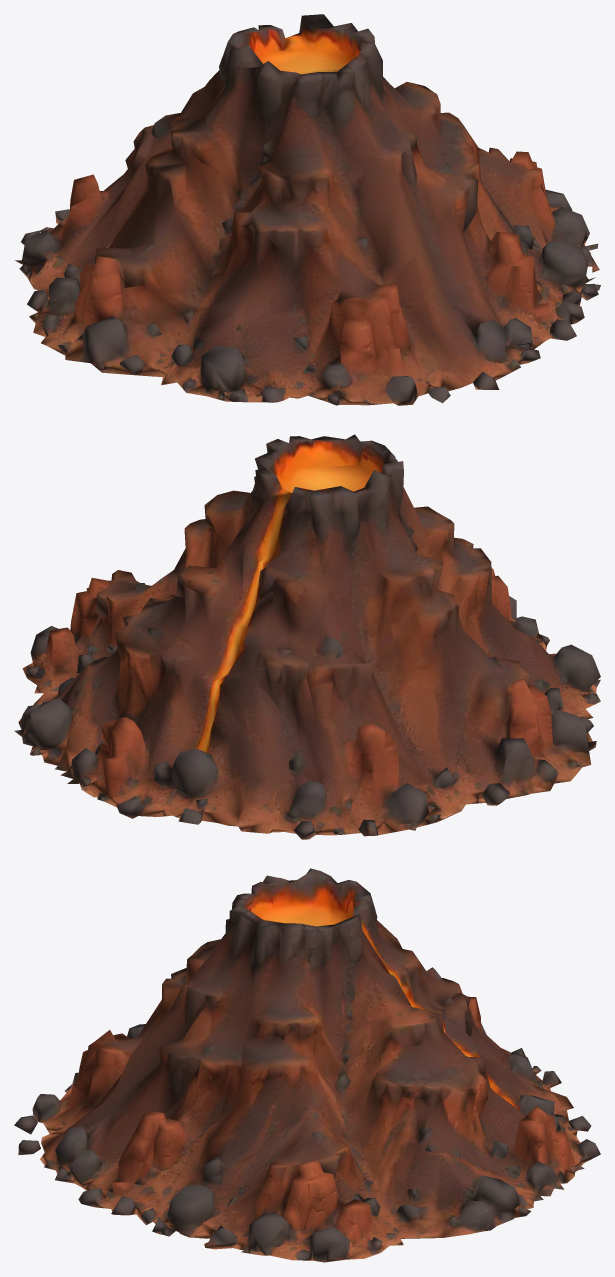
Rendered from vista-cinder-cone.glb.
The picture shows the model from 3 angles, top to bottom: view 1: azimuth 30°, elevation 25°; view 2: azimuth 150°, elevation 25°; view 3: azimuth 270°, elevation 25°; orthographic projection. The views are drawn at different scales.
Parts seen in each view (by area): view 1: tripo_node_b7cc409f-4e95-4757-9dfc-13e12c158277; view 2: tripo_node_b7cc409f-4e95-4757-9dfc-13e12c158277; view 3: tripo_node_b7cc409f-4e95-4757-9dfc-13e12c158277.
Part boxes in pixels (x1,y1,x2,y2): tripo_node_b7cc409f-4e95-4757-9dfc-13e12c158277: (15,14,600,405); tripo_node_b7cc409f-4e95-4757-9dfc-13e12c158277: (14,434,600,839); tripo_node_b7cc409f-4e95-4757-9dfc-13e12c158277: (14,868,600,1262).
Bounding box in the file's own units: 0.9831 × 0.459 × 0.9989.
1 material, 1 textured.
